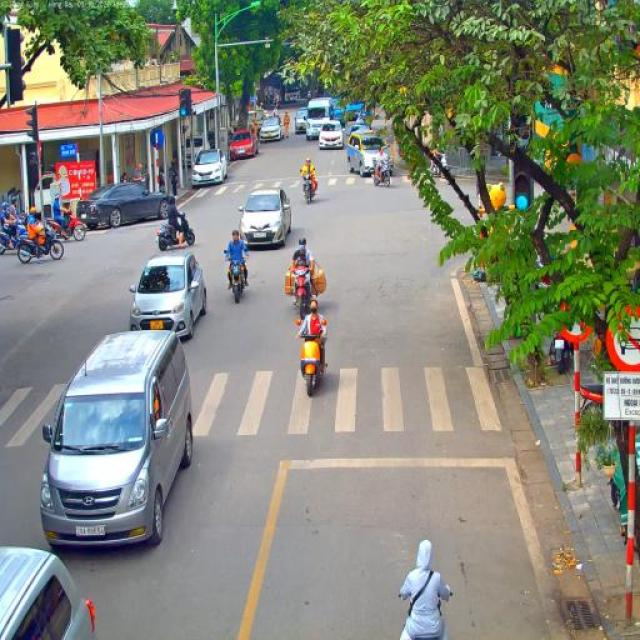car: (40, 329, 195, 551), (0, 545, 100, 640), (128, 250, 208, 342), (76, 182, 178, 229), (238, 186, 292, 249), (345, 129, 390, 176), (191, 148, 229, 188), (227, 129, 258, 160), (319, 120, 345, 150), (258, 116, 282, 144), (348, 122, 372, 140), (294, 110, 308, 134), (335, 108, 345, 122)
motorcycle: (397, 589, 455, 640), (284, 258, 327, 318), (296, 318, 328, 397), (15, 221, 66, 264), (156, 213, 196, 252), (44, 206, 87, 242), (224, 248, 250, 304), (0, 213, 30, 256), (548, 327, 572, 375), (300, 171, 318, 204), (372, 160, 393, 188), (431, 156, 448, 178), (272, 114, 280, 124), (307, 93, 314, 103)
truck: (257, 70, 302, 108), (306, 98, 340, 141), (334, 100, 366, 116), (248, 109, 264, 136)
